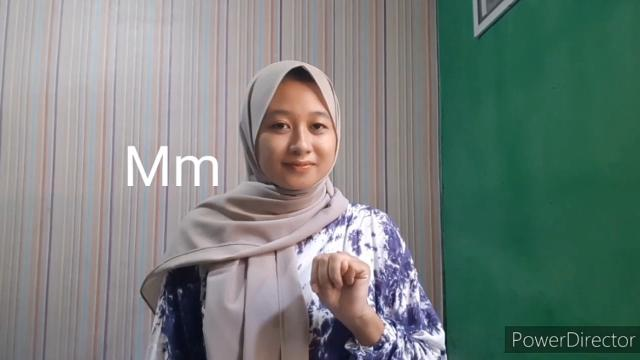M: (308, 251, 372, 317)
